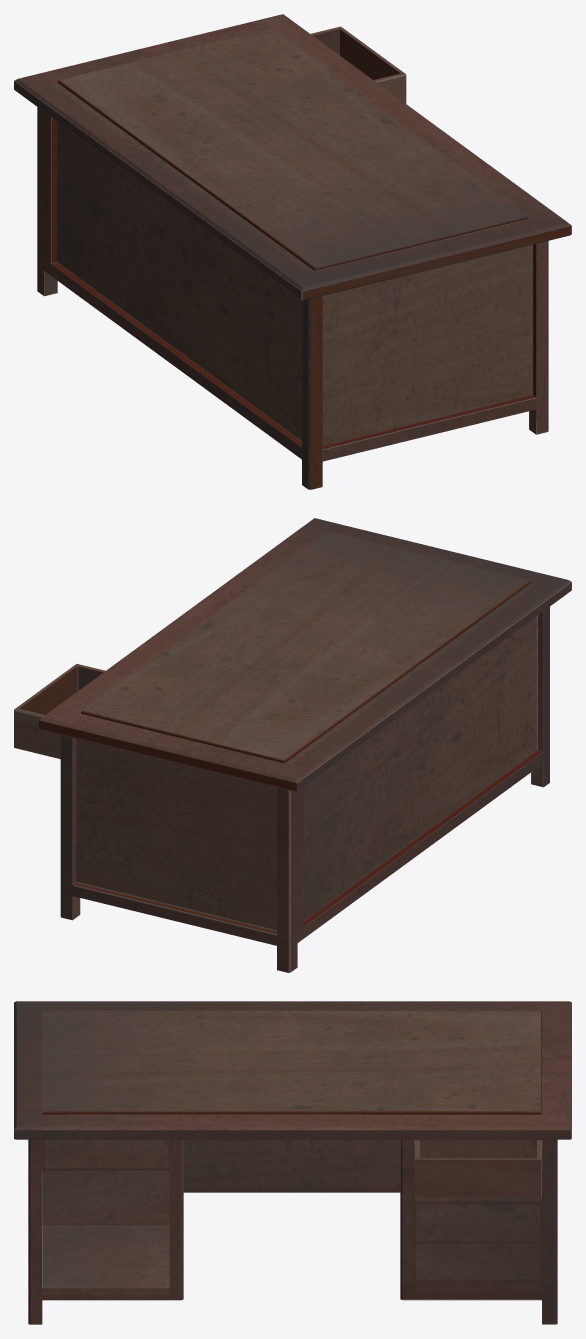
Rendered from office_table.fbx.
3 views of the same model, one above another, from view 1: azimuth 30°, elevation 25°; view 2: azimuth 150°, elevation 25°; view 3: azimuth 270°, elevation 25° (orthographic). The views are drawn at different scales.
Parts seen in each view (by area): view 1: table, table.001; view 2: table, table.001; view 3: table, table.001.
Boxes of the visible parts, x1=… form: table: x1=14, y1=14, x2=571, y2=489; table.001: x1=311, y1=26, x2=406, y2=103; table: x1=38, y1=518, x2=571, y2=972; table.001: x1=14, y1=664, x2=105, y2=758; table: x1=14, y1=1001, x2=571, y2=1324; table.001: x1=414, y1=1139, x2=541, y2=1198.
Size of the model in its own units: 108 by 71.01 by 174.
1 material, 1 textured.
